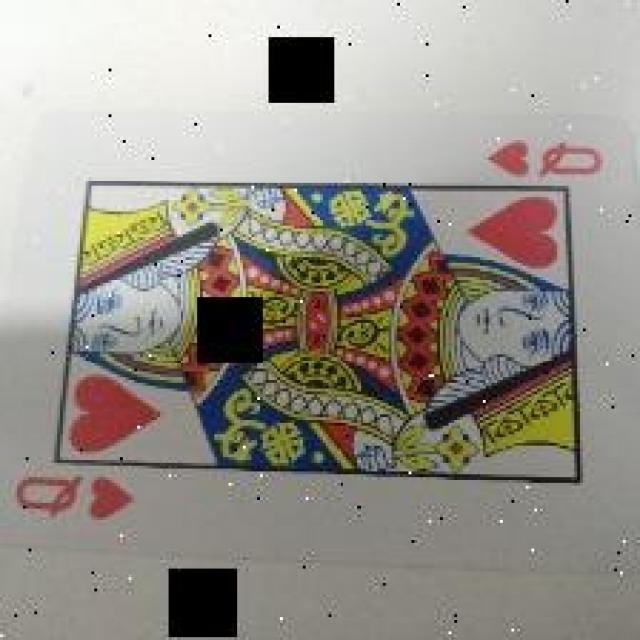Queen of hearts: (6, 134, 623, 536)
